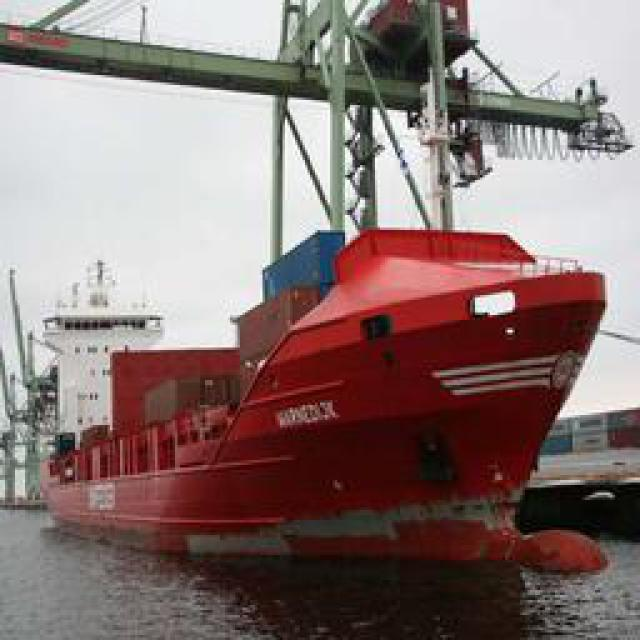Ship: (80, 191, 623, 574)
